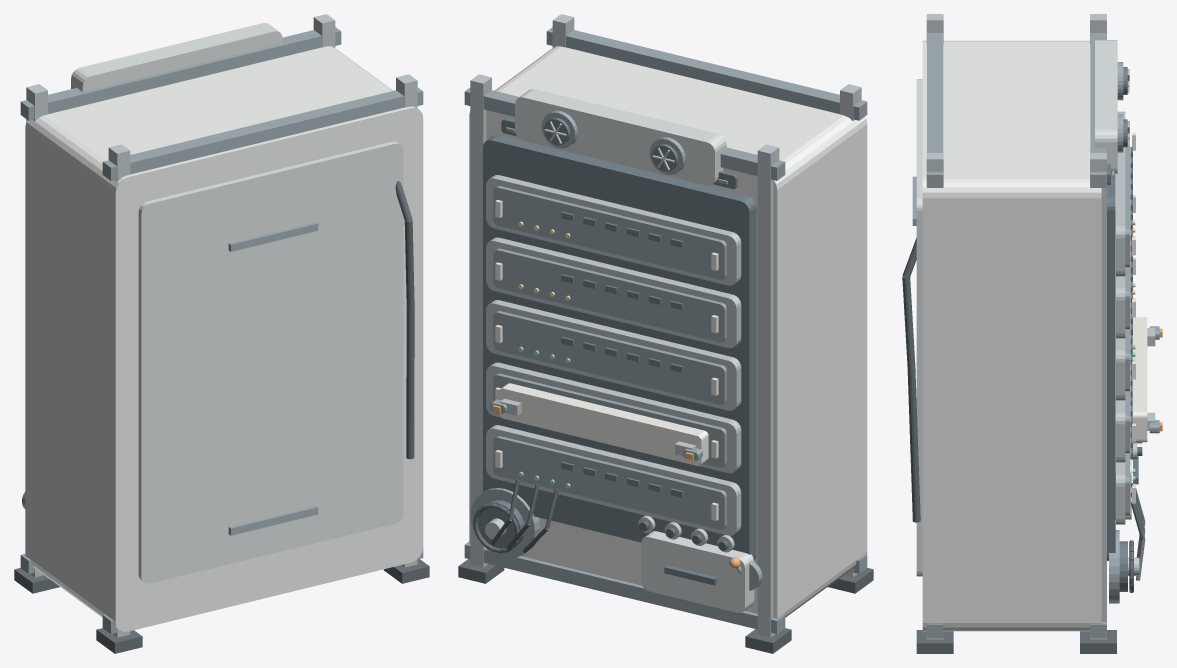
File: communications_station.glb
3 renders of one model, left to right at view 1: azimuth 30°, elevation 25°; view 2: azimuth 150°, elevation 25°; view 3: azimuth 270°, elevation 25°, orthographic.
Visible parts, largest first — view 1: static_back__light_gray, static_outer_shell__shell, frame__steel, static_top_service__light_gray, frame__aluminum, static_cable__rubber, feet__rubber, static_back_hardware__steel; view 2: static_outer_shell__shell, static_bay_face__steel, static_recess__graphite, static_bay_frame__aluminum, frame__aluminum, frame__steel, static_top_service__light_gray, service_data_module__shell_warm, static_service_bay__light_gray, static_bay_vents__graphite, feet__rubber, comms_reel__steel (+7 smaller); view 3: static_outer_shell__shell, frame__aluminum, frame__steel, static_bay_frame__aluminum, static_recess__graphite, static_back__light_gray, static_top_service__light_gray, static_cable__rubber, static_bay_face__steel, service_data_module__shell_warm, feet__rubber, static_bay_vents__graphite (+5 smaller).
Part boxes in pixels (<box>): static_back__light_gray: <box>138,141,403,583</box>; static_outer_shell__shell: <box>25,46,423,631</box>; frame__steel: <box>20,27,423,634</box>; static_top_service__light_gray: <box>71,23,282,91</box>; frame__aluminum: <box>26,14,417,637</box>; static_cable__rubber: <box>395,181,414,459</box>; feet__rubber: <box>14,559,429,653</box>; static_back_hardware__steel: <box>228,222,318,535</box>; static_outer_shell__shell: <box>469,46,867,618</box>; static_bay_face__steel: <box>493,186,726,529</box>; static_recess__graphite: <box>483,135,756,559</box>; static_bay_frame__aluminum: <box>486,175,741,535</box>; frame__aluminum: <box>470,14,861,637</box>; frame__steel: <box>464,27,867,634</box>; static_top_service__light_gray: <box>515,89,726,185</box>; service_data_module__shell_warm: <box>499,383,708,465</box>; static_service_bay__light_gray: <box>641,531,754,612</box>; static_bay_vents__graphite: <box>561,212,683,497</box>; feet__rubber: <box>458,559,873,653</box>; comms_reel__steel: <box>470,488,540,558</box>; static_outer_shell__shell: <box>922,40,1101,631</box>; frame__aluminum: <box>926,14,1106,639</box>; frame__steel: <box>927,33,1106,637</box>; static_bay_frame__aluminum: <box>1116,111,1125,524</box>; static_recess__graphite: <box>1107,174,1115,560</box>; static_back__light_gray: <box>916,79,922,576</box>; static_top_service__light_gray: <box>1095,40,1117,173</box>; static_cable__rubber: <box>902,238,920,522</box>; static_bay_face__steel: <box>1125,121,1129,515</box>; service_data_module__shell_warm: <box>1132,317,1147,442</box>; feet__rubber: <box>916,630,1116,653</box>; static_bay_vents__graphite: <box>1130,147,1132,459</box>.
Bounding box in the file's own units: 1.37 × 2.07 × 0.989.
